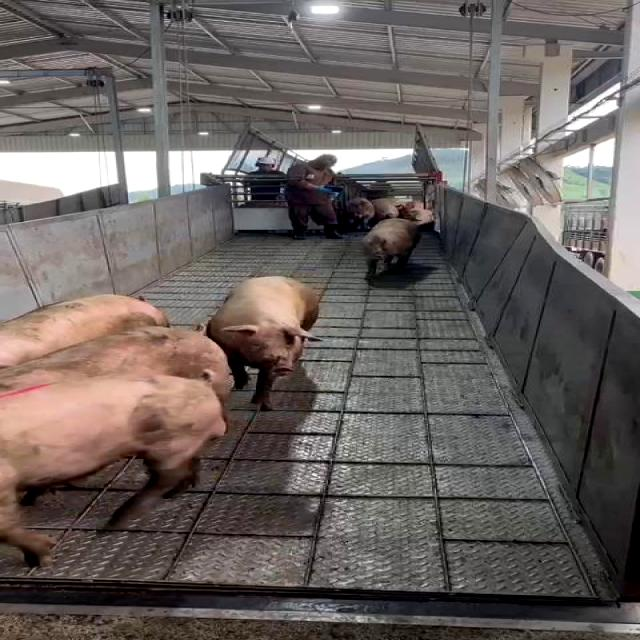pig: (1, 376, 224, 522), (206, 276, 319, 409), (3, 328, 228, 394), (1, 295, 165, 364), (363, 219, 419, 279)
